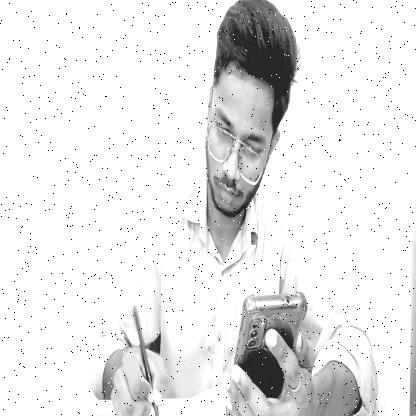Distracted: (201, 0, 300, 228)
